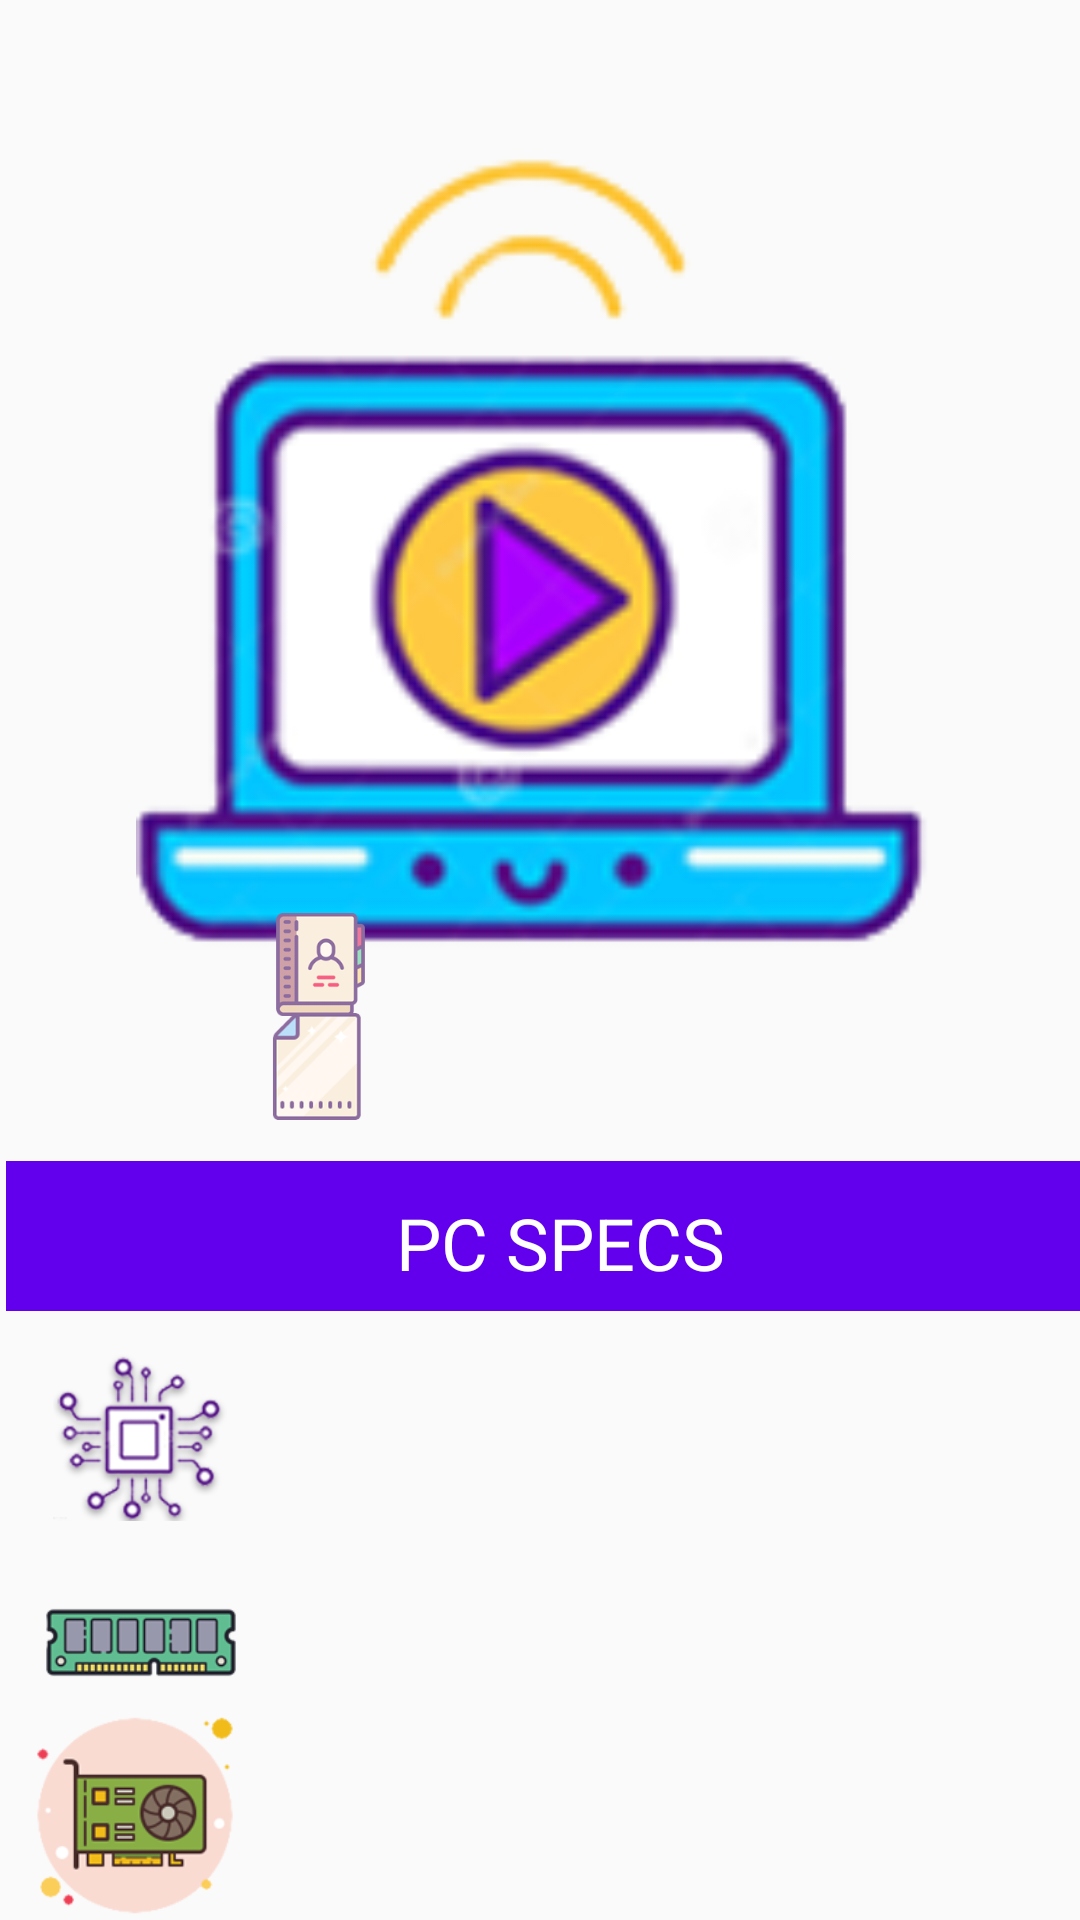

Screen size 1080*1920. Icon name, then its center in pixels as (x=x, y=y):
cpuicon: (x=139, y=1439)
gpuicon: (x=135, y=1815)
ramicon: (x=141, y=1674)
usernameicon: (x=320, y=964)
